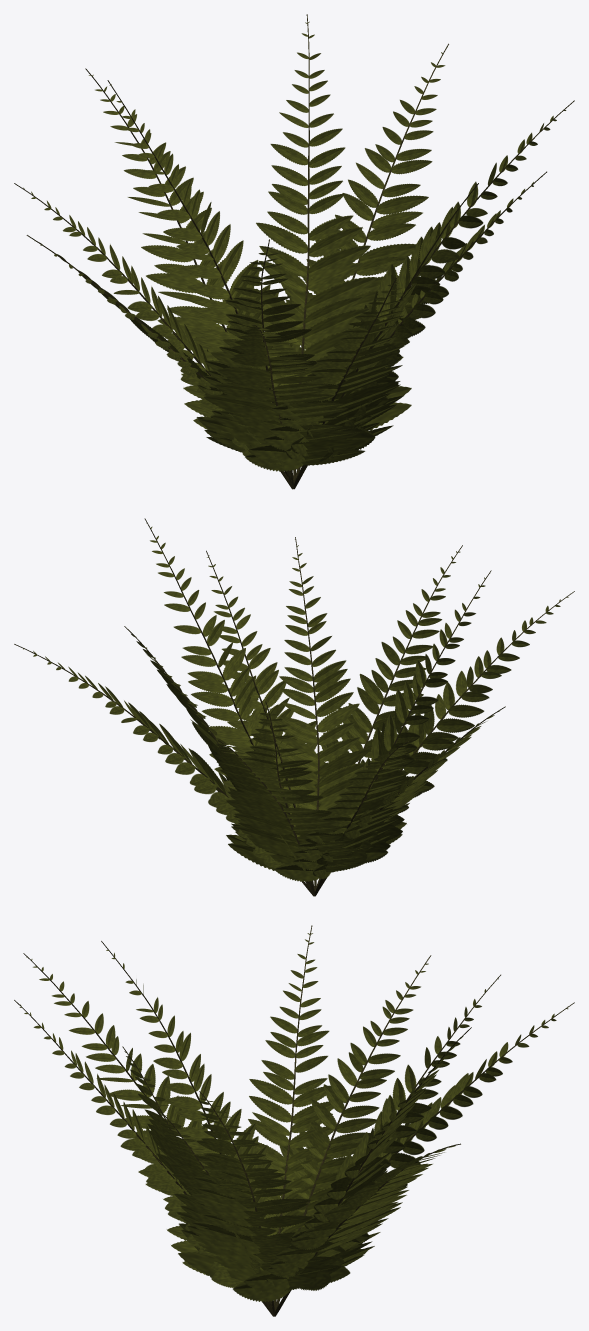
Rendered from bracken_v02.glb.
3 renders of one model, top to bottom at view 1: azimuth 30°, elevation 25°; view 2: azimuth 150°, elevation 25°; view 3: azimuth 270°, elevation 25°, orthographic. The views are drawn at different scales.
Visible parts, largest first — view 1: bracken_v02; view 2: bracken_v02; view 3: bracken_v02.
Boxes of the visible parts, x1,y1,x2,y2 form: bracken_v02: [14, 14, 574, 489]; bracken_v02: [14, 518, 574, 896]; bracken_v02: [14, 925, 574, 1316].
Size of the model in its own units: 2.01 by 1.41 by 2.08.
2 materials, 2 textured.
